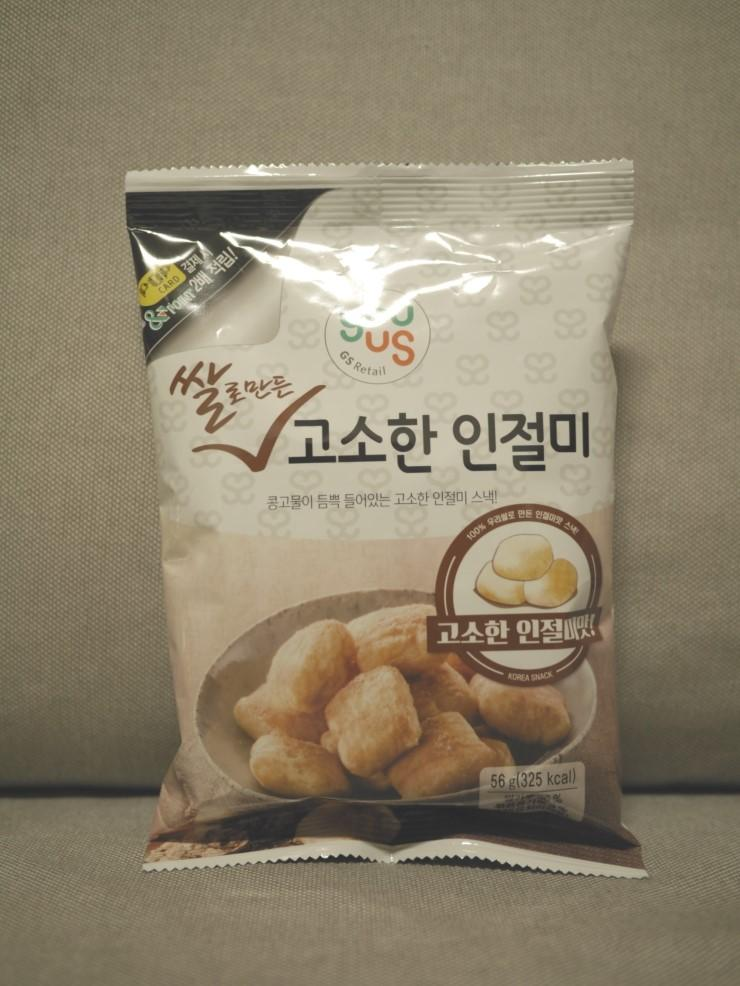snack: (126, 154, 656, 883)
